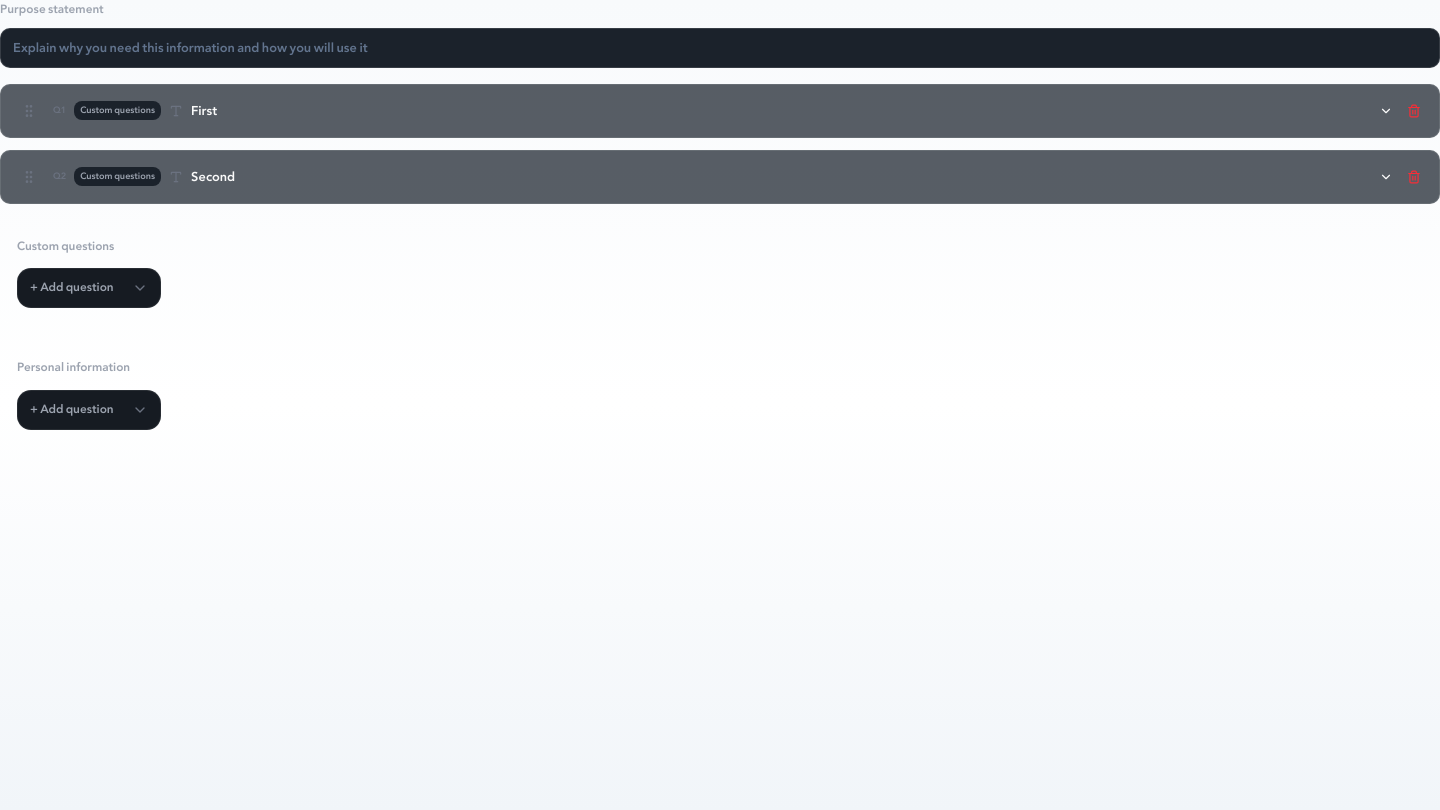
Test: question authoring controls › keeps product editor labels in en when the form's content language differs
The width and height of the screenshot is (1440, 810).
Click the 1st button "+ Add question" at (89,288), box [17,268,161,308]
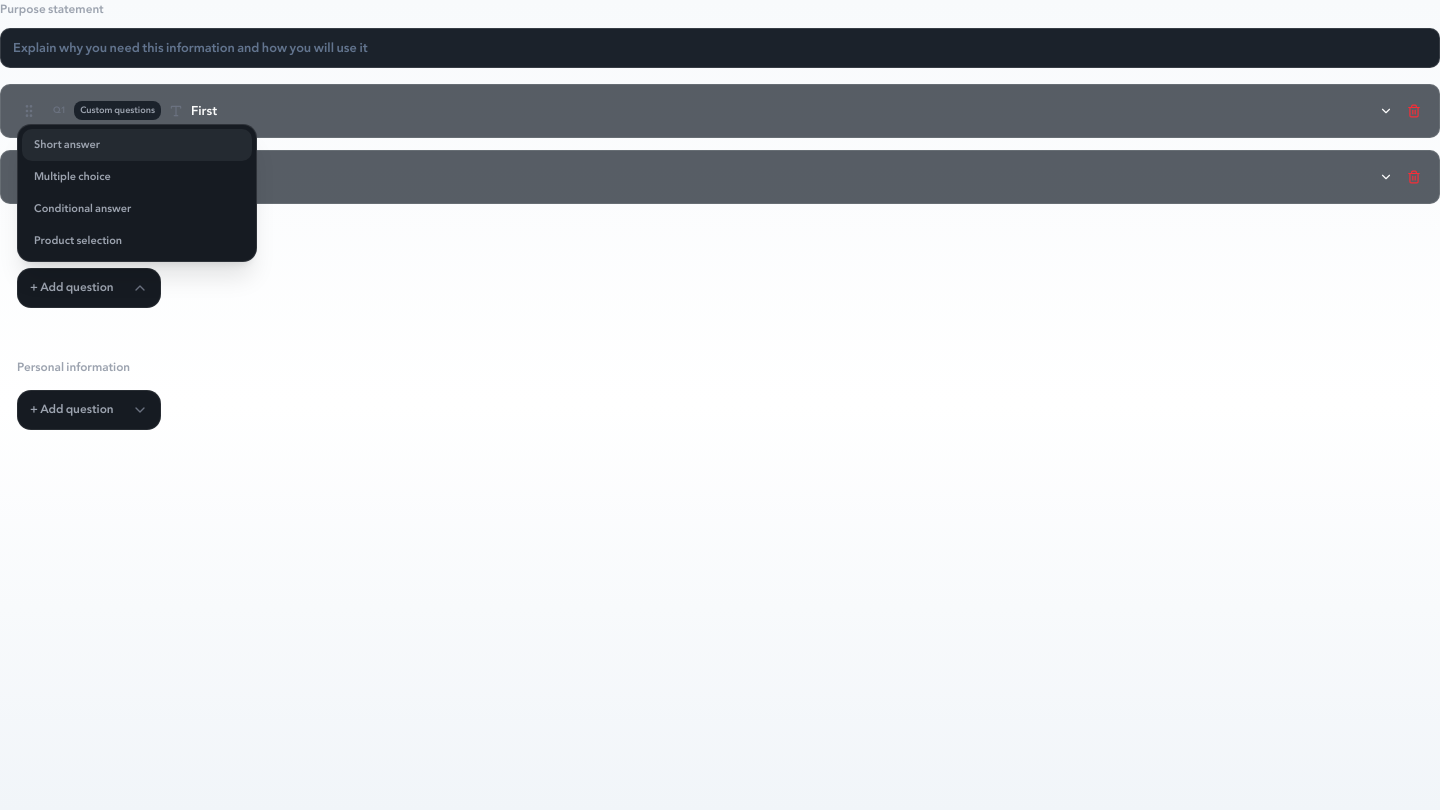
Click the option "Product selection" at (137,241), box [22,225,252,257]
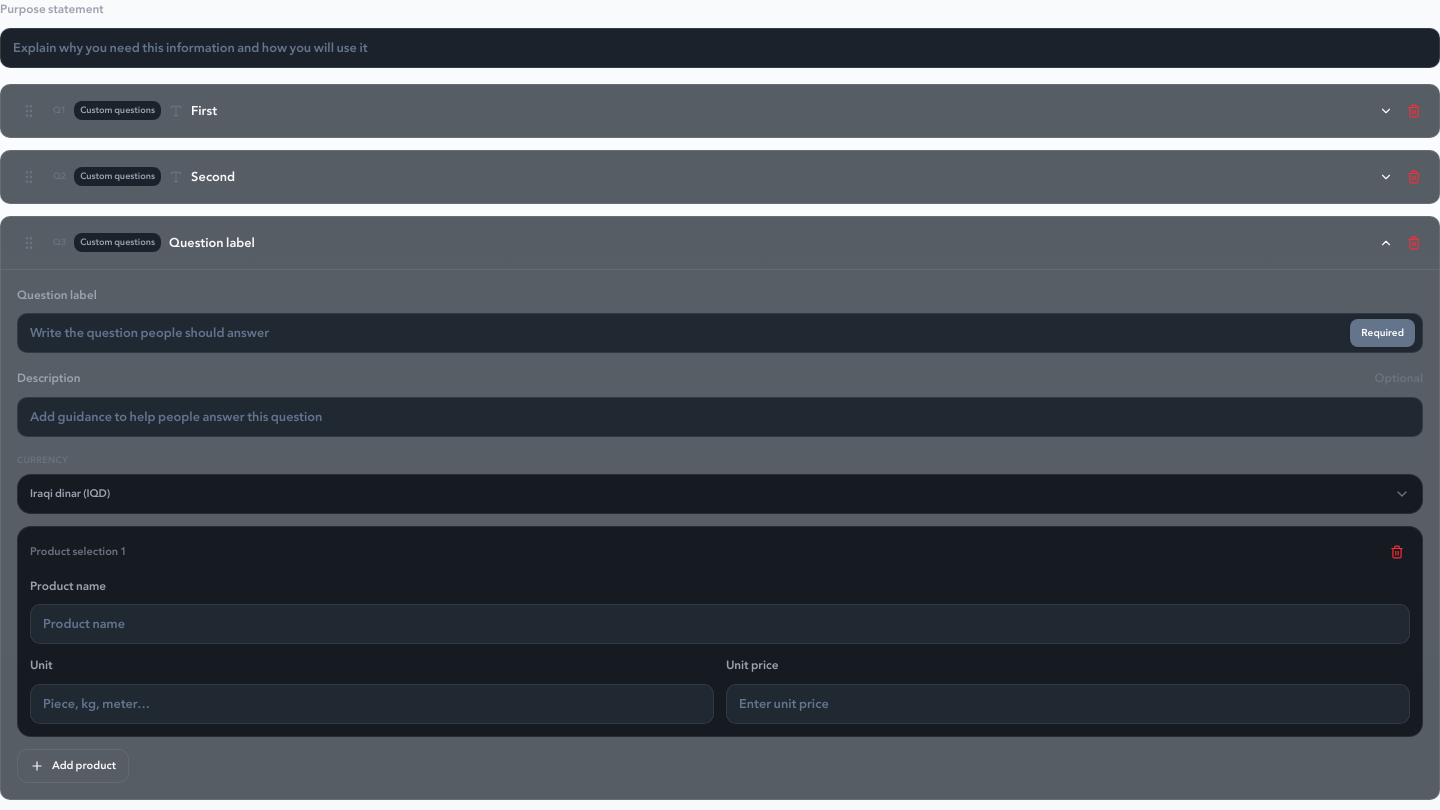
Result: the field labelled "Product name" is shown at [30,604,1410,644]
Result: the field labelled "Unit price" is shown at [726,684,1410,724]
